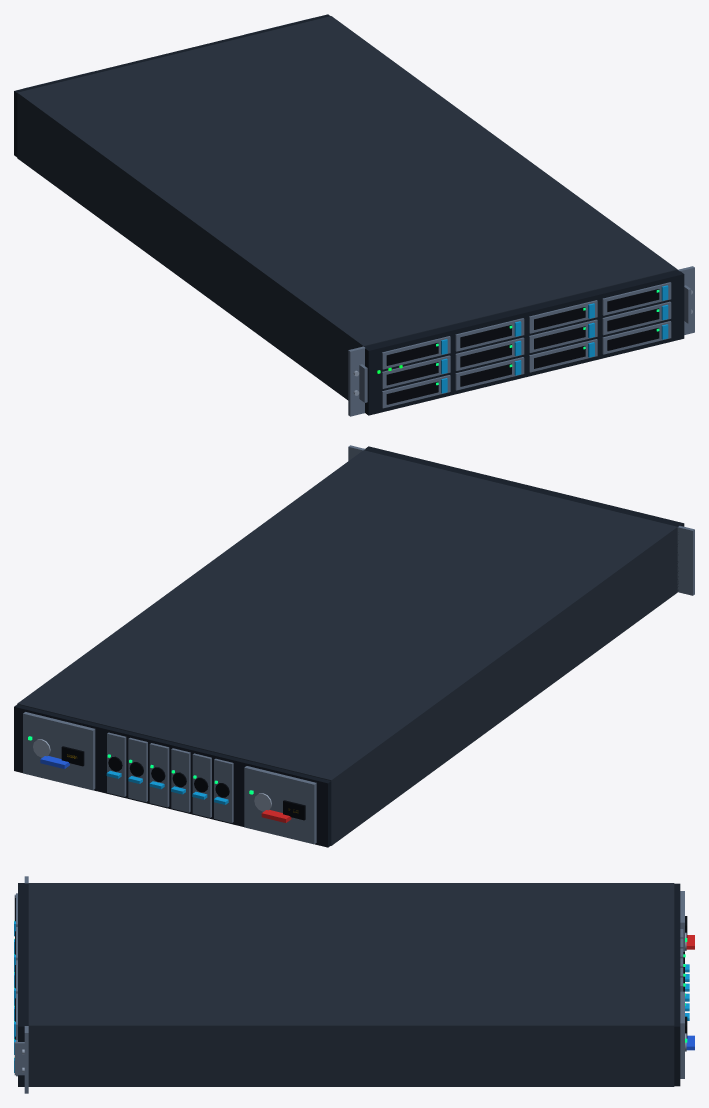
Rendered from generic_server_2u.glb.
3 views of the same model, one above another, from view 1: azimuth 30°, elevation 25°; view 2: azimuth 150°, elevation 25°; view 3: azimuth 270°, elevation 25° (orthographic). The views are drawn at different scales.
Visible parts, largest first — view 1: BATCH_MAT_CHASSIS_BODY, BATCH_MAT_FACEPLATE, BATCH_MAT_RACK_EAR, BATCH_MAT_CAVITY_DARK, BATCH_MAT_LFF_LATCH; view 2: BATCH_MAT_CHASSIS_BODY, BATCH_MAT_RACK_EAR, BATCH_MAT_FACEPLATE, BATCH_MAT_CAVITY_DARK; view 3: BATCH_MAT_CHASSIS_BODY, BATCH_MAT_FACEPLATE, BATCH_MAT_RACK_EAR.
Boxes of the visible parts, x1,y1,x2,y2 form: BATCH_MAT_CHASSIS_BODY: (17, 16, 677, 400); BATCH_MAT_FACEPLATE: (14, 14, 684, 415); BATCH_MAT_RACK_EAR: (23, 17, 694, 416); BATCH_MAT_CAVITY_DARK: (386, 289, 659, 404); BATCH_MAT_LFF_LATCH: (441, 285, 668, 393); BATCH_MAT_CHASSIS_BODY: (17, 450, 677, 845); BATCH_MAT_RACK_EAR: (23, 445, 694, 844); BATCH_MAT_FACEPLATE: (14, 446, 684, 847); BATCH_MAT_CAVITY_DARK: (61, 746, 305, 820); BATCH_MAT_CHASSIS_BODY: (28, 883, 674, 1086); BATCH_MAT_FACEPLATE: (18, 883, 680, 1086); BATCH_MAT_RACK_EAR: (14, 876, 684, 1093).
Size of the model in its own units: 0.4826 by 0.088 by 0.886.
